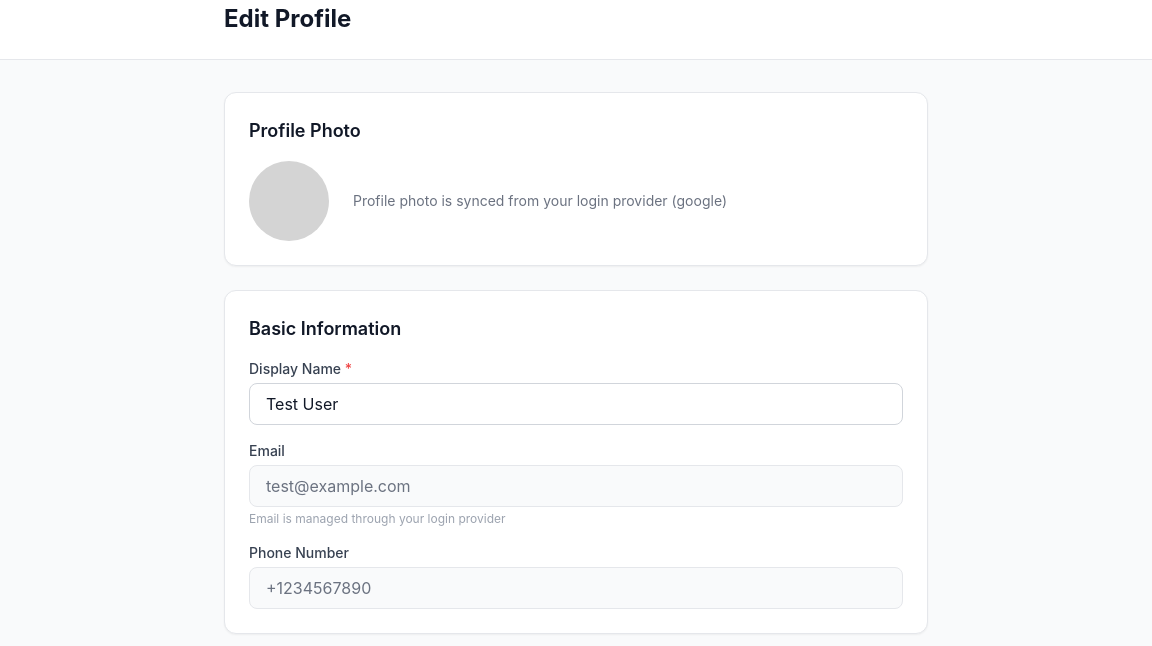
Scenario: EditProfilePage › Form Validation › shows validation error for display name less than 2 characters
Replace the text in the field named "display_name" with "A" at {"x": 576, "y": 404}, box x1=249 y1=383 x2=903 y2=425
(page scrolled)
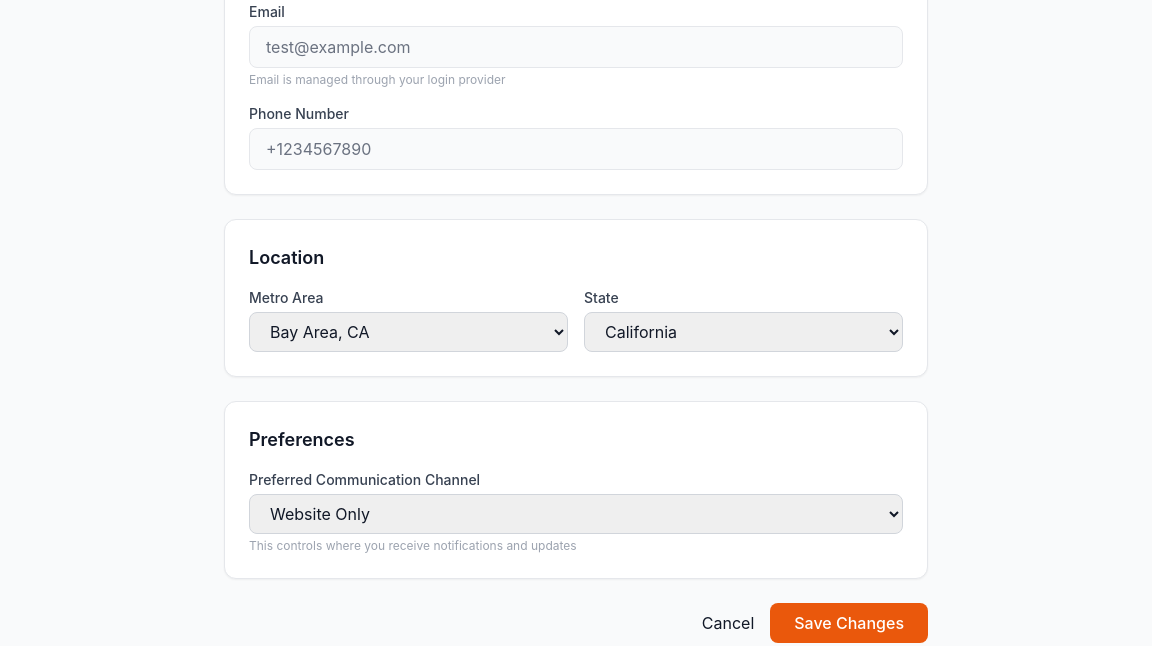
Click the button "Save Changes".
click(849, 623)  # box x1=770 y1=603 x2=928 y2=643
(page scrolled)
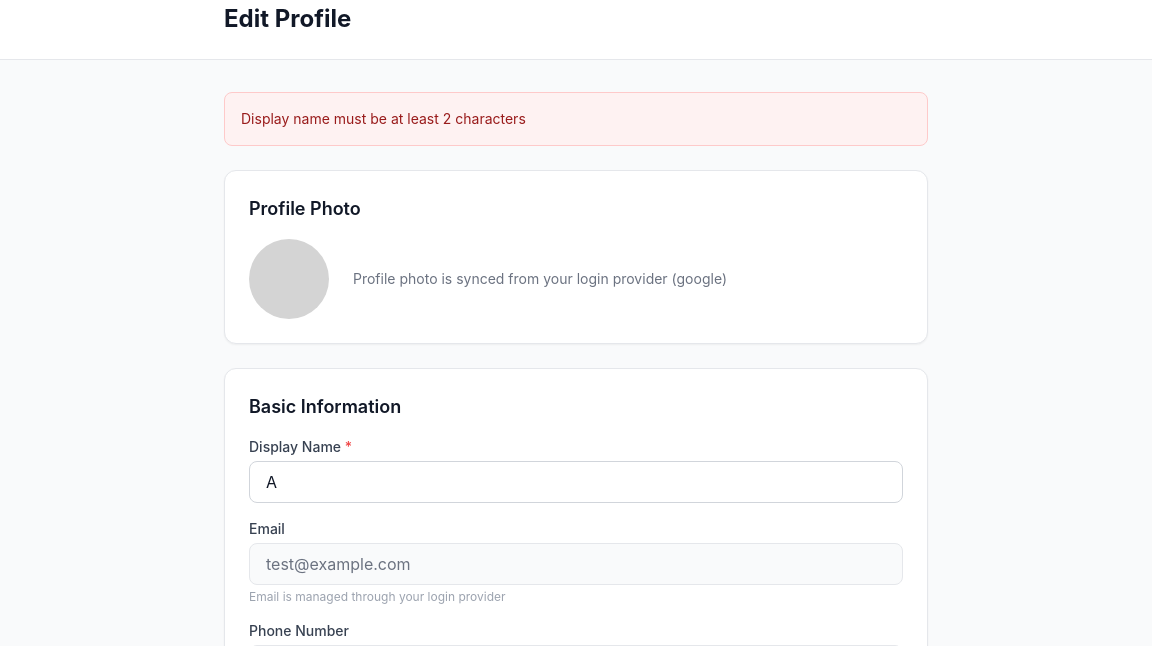
Result: the text "Display name must be at least 2 characters" is shown at x1=224 y1=92 x2=928 y2=146
